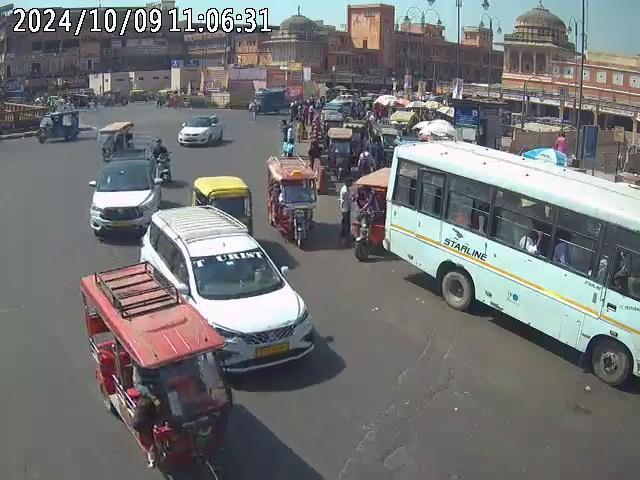auto: (79, 257, 234, 476), (266, 153, 319, 247), (353, 166, 394, 260), (191, 175, 254, 232), (96, 120, 135, 162), (37, 109, 81, 143), (326, 126, 354, 176)
bus: (382, 137, 640, 383)
car: (138, 204, 317, 378), (89, 159, 164, 242), (177, 115, 223, 148)
person: (337, 177, 355, 244), (521, 227, 542, 257), (554, 235, 573, 268), (280, 121, 296, 158)
scooty-rider: (146, 137, 173, 185)
